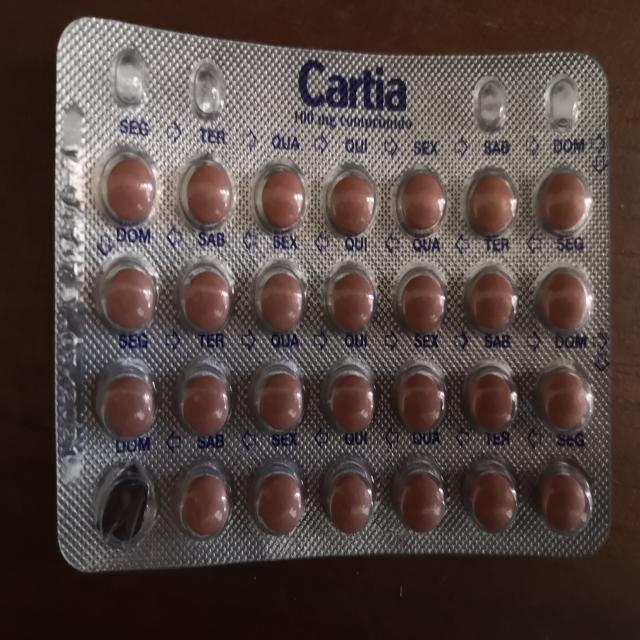Empty: (86, 464, 162, 548)
Pill: (90, 357, 159, 447), (94, 248, 161, 338), (91, 142, 161, 227), (530, 157, 595, 245), (172, 456, 238, 542), (170, 256, 235, 341), (172, 152, 240, 230), (320, 259, 385, 339), (460, 164, 524, 245), (532, 260, 594, 342), (533, 363, 599, 440), (247, 460, 309, 541), (459, 259, 521, 339), (172, 361, 234, 441), (248, 358, 308, 440), (248, 258, 308, 338), (318, 455, 377, 536), (462, 461, 524, 537), (390, 162, 450, 239), (462, 360, 522, 437), (315, 362, 379, 433), (248, 159, 306, 236), (392, 261, 448, 340), (534, 462, 593, 536), (389, 458, 447, 532), (322, 165, 380, 238), (393, 364, 448, 438)
